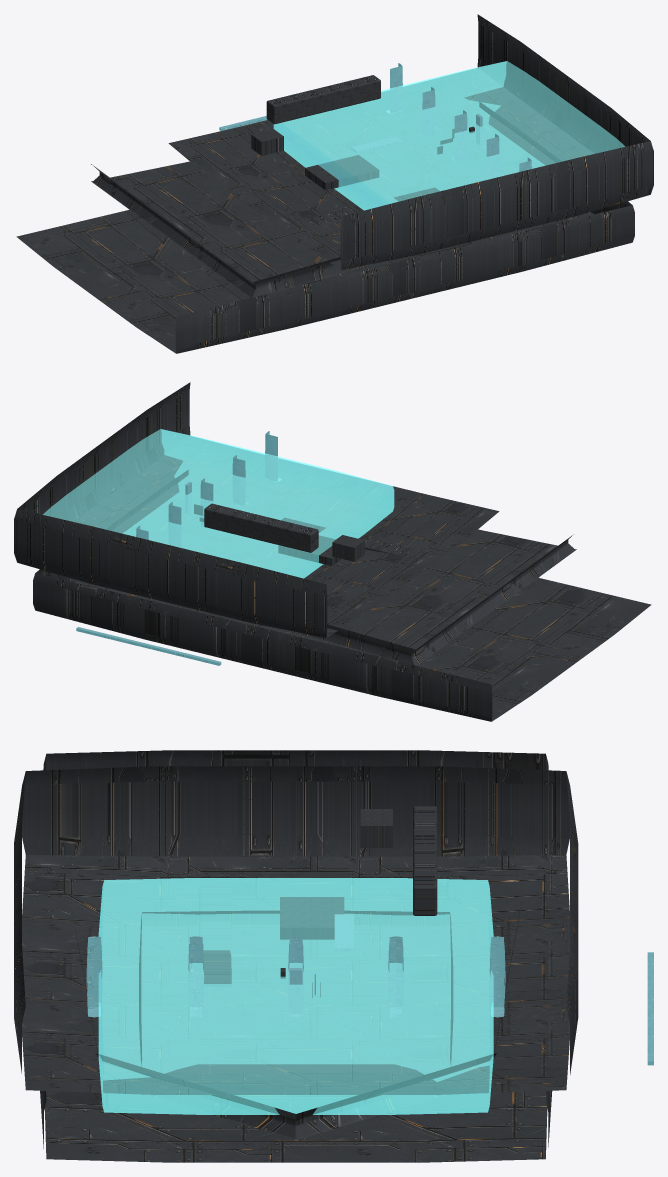
Rendered from cockpit_recessed.glb.
The picture shows the model from 3 angles, top to bottom: view 1: azimuth 30°, elevation 25°; view 2: azimuth 150°, elevation 25°; view 3: azimuth 270°, elevation 25°; orthographic projection. The views are drawn at different scales.
Parts seen in each view (by area): view 1: cockpit_recessed_Material_Mechanical_Merged, cockpit_recessed_Material_Hull_Merged, Recessed_Sensor_Slit, DET_armor_brow, cockpit_recessed_Material_Accent_Merged, DET_dash_panel, DET_mount_collar, DET_sensor_cluster; view 2: cockpit_recessed_Material_Mechanical_Merged, cockpit_recessed_Material_Hull_Merged, Recessed_Sensor_Slit, DET_armor_brow, cockpit_recessed_Material_Accent_Merged, DET_mount_collar, DET_dash_panel, DET_canopy_wear_streak, DET_sensor_cluster; view 3: cockpit_recessed_Material_Mechanical_Merged, Recessed_Sensor_Slit, cockpit_recessed_Material_Hull_Merged, cockpit_recessed_Material_Accent_Merged, DET_dash_panel, DET_mount_collar, DET_armor_brow, DET_sensor_cluster, DET_canopy_wear_streak, DET_stencil_quiet, DET_faction_stripe_port.
Boxes of the visible parts, left/top/right/bottom form: cockpit_recessed_Material_Mechanical_Merged: left=168, top=14, right=653, bottom=269; cockpit_recessed_Material_Hull_Merged: left=16, top=161, right=634, bottom=353; Recessed_Sensor_Slit: left=273, top=61, right=624, bottom=210; DET_armor_brow: left=266, top=75, right=380, bottom=124; cockpit_recessed_Material_Accent_Merged: left=386, top=63, right=531, bottom=179; DET_dash_panel: left=305, top=155, right=379, bottom=190; DET_mount_collar: left=305, top=187, right=439, bottom=225; DET_sensor_cluster: left=251, top=129, right=283, bottom=155; cockpit_recessed_Material_Mechanical_Merged: left=14, top=382, right=499, bottom=637; cockpit_recessed_Material_Hull_Merged: left=33, top=529, right=651, bottom=721; Recessed_Sensor_Slit: left=43, top=429, right=394, bottom=578; DET_armor_brow: left=204, top=503, right=318, bottom=552; cockpit_recessed_Material_Accent_Merged: left=136, top=431, right=281, bottom=547; DET_mount_collar: left=281, top=518, right=413, bottom=555; DET_dash_panel: left=278, top=535, right=341, bottom=565; DET_canopy_wear_streak: left=76, top=627, right=221, bottom=665; DET_sensor_cluster: left=332, top=535, right=364, bottom=561; cockpit_recessed_Material_Mechanical_Merged: left=14, top=766, right=578, bottom=1094; Recessed_Sensor_Slit: left=98, top=878, right=493, bottom=1114; cockpit_recessed_Material_Hull_Merged: left=40, top=750, right=552, bottom=1162; cockpit_recessed_Material_Accent_Merged: left=86, top=936, right=505, bottom=1017; DET_dash_panel: left=280, top=887, right=344, bottom=939; DET_mount_collar: left=199, top=883, right=231, bottom=986; DET_armor_brow: left=413, top=806, right=437, bottom=915; DET_sensor_cluster: left=360, top=809, right=392, bottom=847; DET_canopy_wear_streak: left=647, top=952, right=653, bottom=1065; DET_stencil_quiet: left=334, top=914, right=353, bottom=951; DET_faction_stripe_port: left=289, top=968, right=302, bottom=1013.
Bounding box in the file's own units: 5.71 × 1.34 × 3.97.
Materials: 4 (3 with a texture image).
